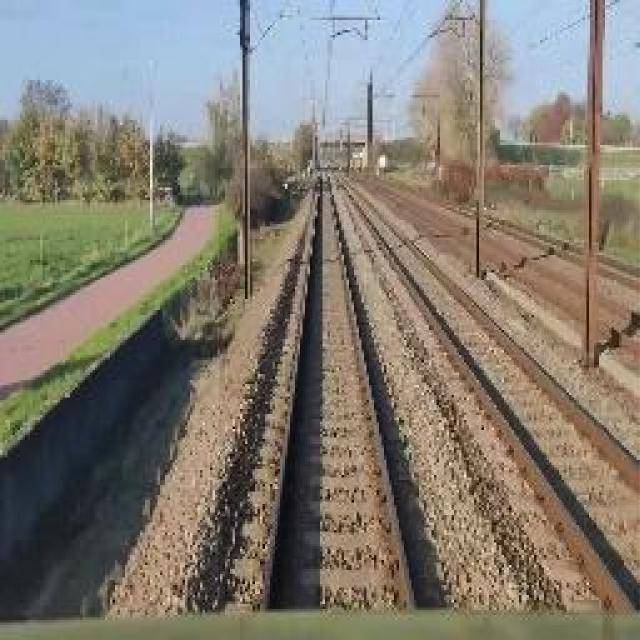rail: (332, 169, 640, 616), (220, 170, 452, 612)
